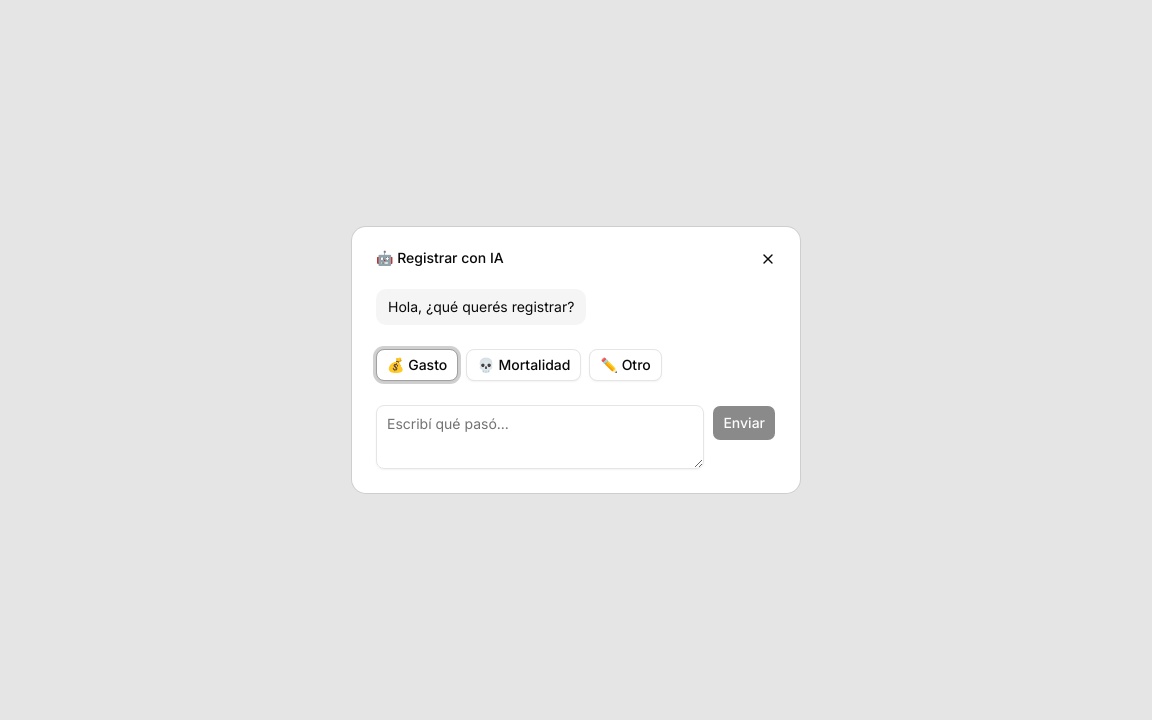
Test: RegistrarConIAModal — C1 wire-up backend integration state transitions chat-like › query resolves null suggestion → bot message bubble rendered + input restored idle
In the text box: (540, 437) [376,405,704,469], type "ambiguo"
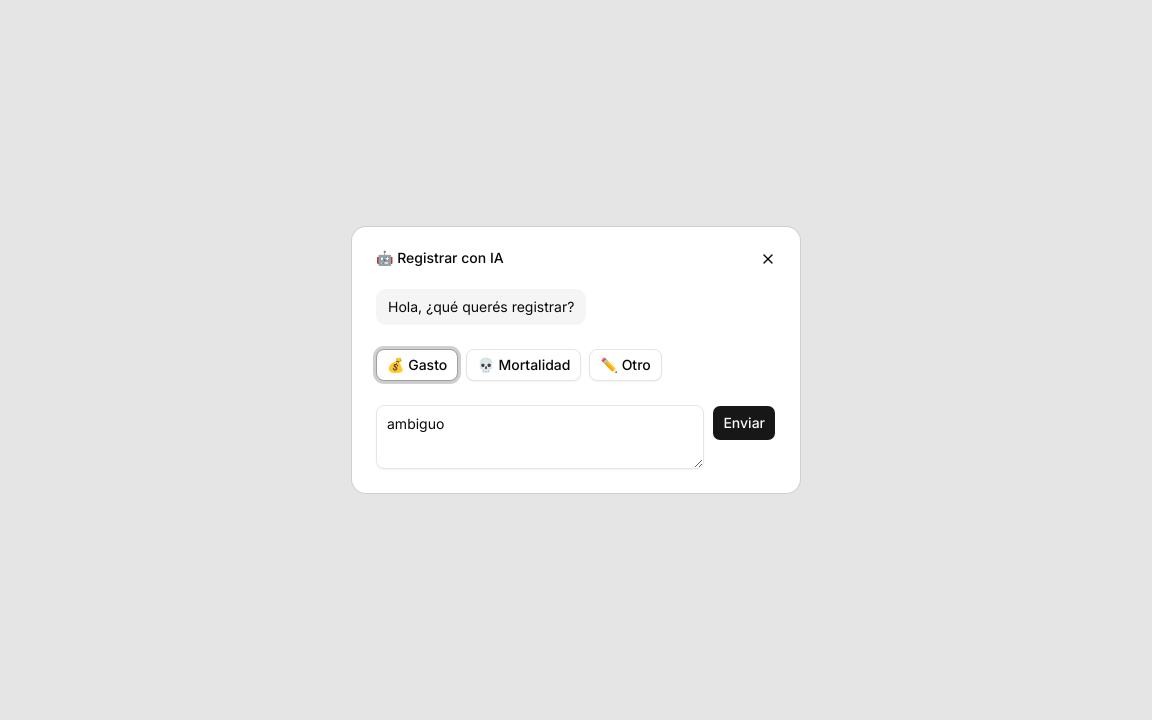
Click the button "Enviar": (744, 423) [712,405,776,441]
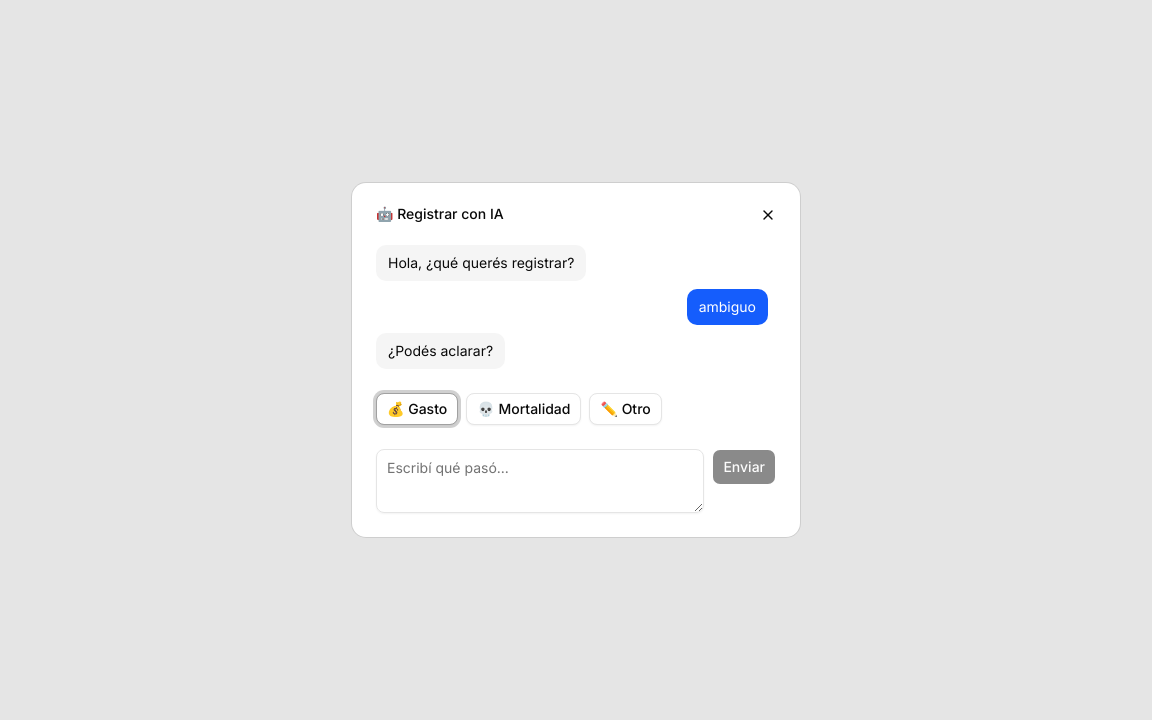
expect the text box is enabled: met, box [376,449,704,513]
expect the text "¿Podés aclarar?" is shown: met, box [376,333,505,369]
